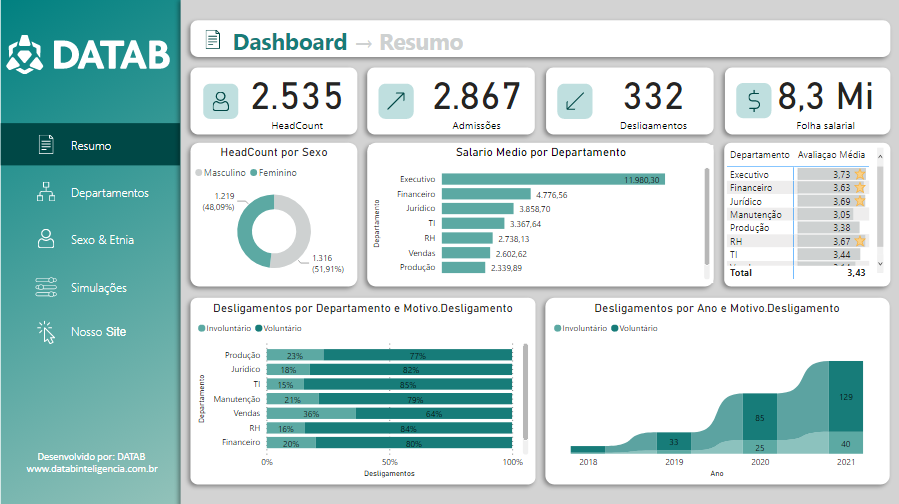

Layout of this report page (visuals, bound fields, positions):
{"tool":"powerbi","page":{"name":"Resumo","canvas":[1280,720],"ordinal":0},"visuals":[{"type":"actionButton","box":[0,176.1,252.8,56.8],"z":0},{"type":"actionButton","box":[0,241.8,252.8,56.8],"z":1000},{"type":"actionButton","box":[0,307.5,252.8,56.8],"z":2000},{"type":"actionButton","box":[0,373.1,252.8,56.8],"z":3000},{"type":"actionButton","box":[0,438.8,252.8,56.8],"z":4000},{"type":"card","fields":{"Values":["Medidas.HeadCount"]},"box":[346.5,88,150.5,100.8],"z":5000},{"type":"card","fields":{"Values":["Medidas.Admissões"]},"box":[602.1,83.8,149.1,110.8],"z":6000},{"type":"card","fields":{"Values":["Medidas.Desligamentos"]},"box":[853.5,89.5,149.1,99.4],"z":7000},{"type":"card","fields":{"Values":["Medidas.Folha salarial"]},"box":[1085,89.5,174.7,99.4],"z":8000},{"type":"donutChart","fields":{"Category":["RH.Sexo"],"Y":["Medidas.HeadCount"]},"box":[271.2,205.9,235.7,197.4],"z":9000},{"type":"clusteredBarChart","fields":{"Y":["Medidas.Salario Medio"],"Category":["RH.Departamento"]},"box":[524,205.9,488.5,196],"z":10000},{"type":"pivotTable","fields":{"Rows":["RH.Departamento"],"Values":["Medidas.Avaliaçao Média"]},"box":[1026.7,204.5,232.9,197.4],"z":11000},{"type":"hundredPercentStackedBarChart","fields":{"Category":["RH.Departamento"],"Series":["RH.Motivo.Desligamento"],"Y":["Medidas.Desligamentos"]},"box":[275.5,427.5,480,255.6],"z":12000},{"type":"ribbonChart","fields":{"Category":["Calendario.Date.Variation.Hierarquia de datas.Ano"],"Y":["Medidas.Desligamentos"],"Series":["RH.Motivo.Desligamento"]},"box":[781.1,427.5,474.3,255.6],"z":13000},{"type":"textbox","box":[325.2,31.2,934.4,52.5],"z":14000}]}

Visuals, with their boxes on the page's 1280x720 design canvas (x1, y1, x2, y2). These are canvas units, not pixel positions in the 899x504 screenshot, which may show the page scaled, cropped or inside an application window:
actionButton: {"left": 0, "top": 176, "right": 253, "bottom": 233}
actionButton: {"left": 0, "top": 242, "right": 253, "bottom": 299}
actionButton: {"left": 0, "top": 308, "right": 253, "bottom": 364}
actionButton: {"left": 0, "top": 373, "right": 253, "bottom": 430}
actionButton: {"left": 0, "top": 439, "right": 253, "bottom": 496}
card - Medidas.HeadCount: {"left": 346, "top": 88, "right": 497, "bottom": 189}
card - Medidas.Admissões: {"left": 602, "top": 84, "right": 751, "bottom": 195}
card - Medidas.Desligamentos: {"left": 854, "top": 90, "right": 1003, "bottom": 189}
card - Medidas.Folha salarial: {"left": 1085, "top": 90, "right": 1260, "bottom": 189}
donutChart - RH.Sexo x Medidas.HeadCount: {"left": 271, "top": 206, "right": 507, "bottom": 403}
clusteredBarChart - Medidas.Salario Medio x RH.Departamento: {"left": 524, "top": 206, "right": 1012, "bottom": 402}
pivotTable - RH.Departamento x Medidas.Avaliaçao Média: {"left": 1027, "top": 204, "right": 1260, "bottom": 402}
hundredPercentStackedBarChart - RH.Departamento x RH.Motivo.Desligamento: {"left": 276, "top": 428, "right": 756, "bottom": 683}
ribbonChart - Calendario.Date.Variation.Hierarquia de datas.Ano x Medidas.Desligamentos: {"left": 781, "top": 428, "right": 1255, "bottom": 683}
textbox: {"left": 325, "top": 31, "right": 1260, "bottom": 84}
